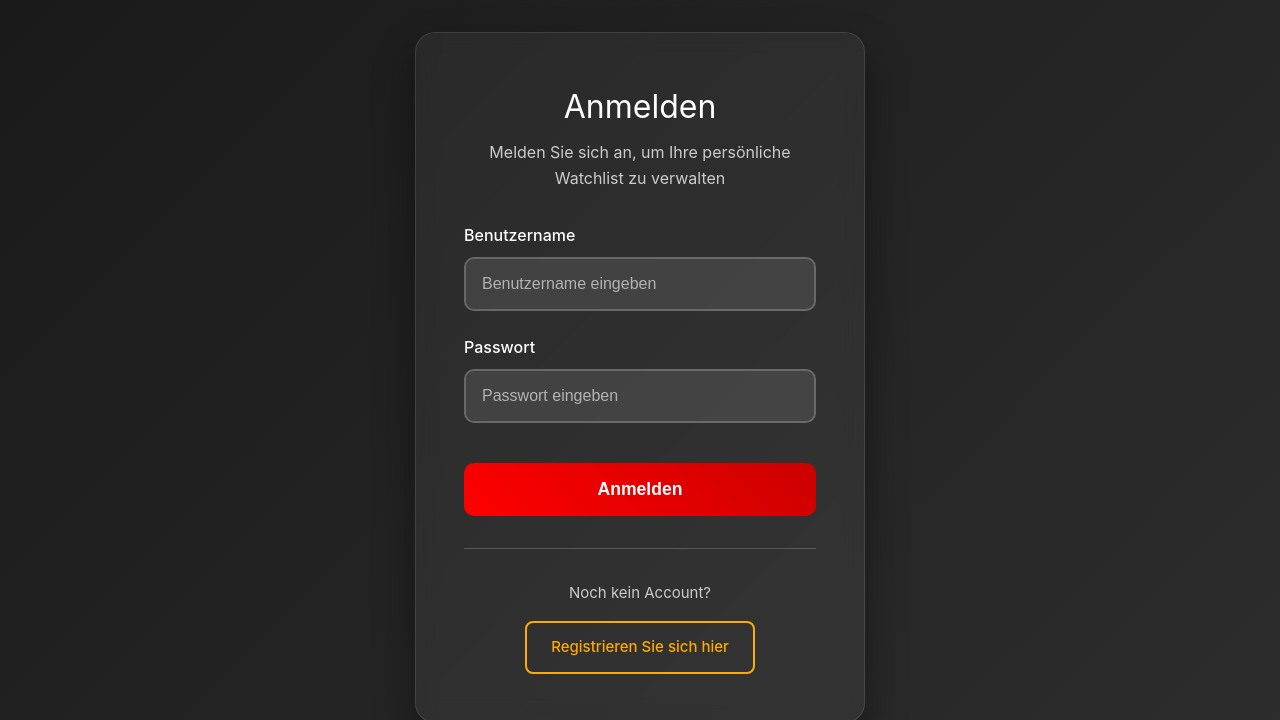
Test: LoginComponent › sollte Netzwerk-Fehler behandeln
The width and height of the screenshot is (1280, 720).
Type "testuser" into the field labelled "Benutzername".
click(640, 284); type("testuser")  # box [464,257,816,311]
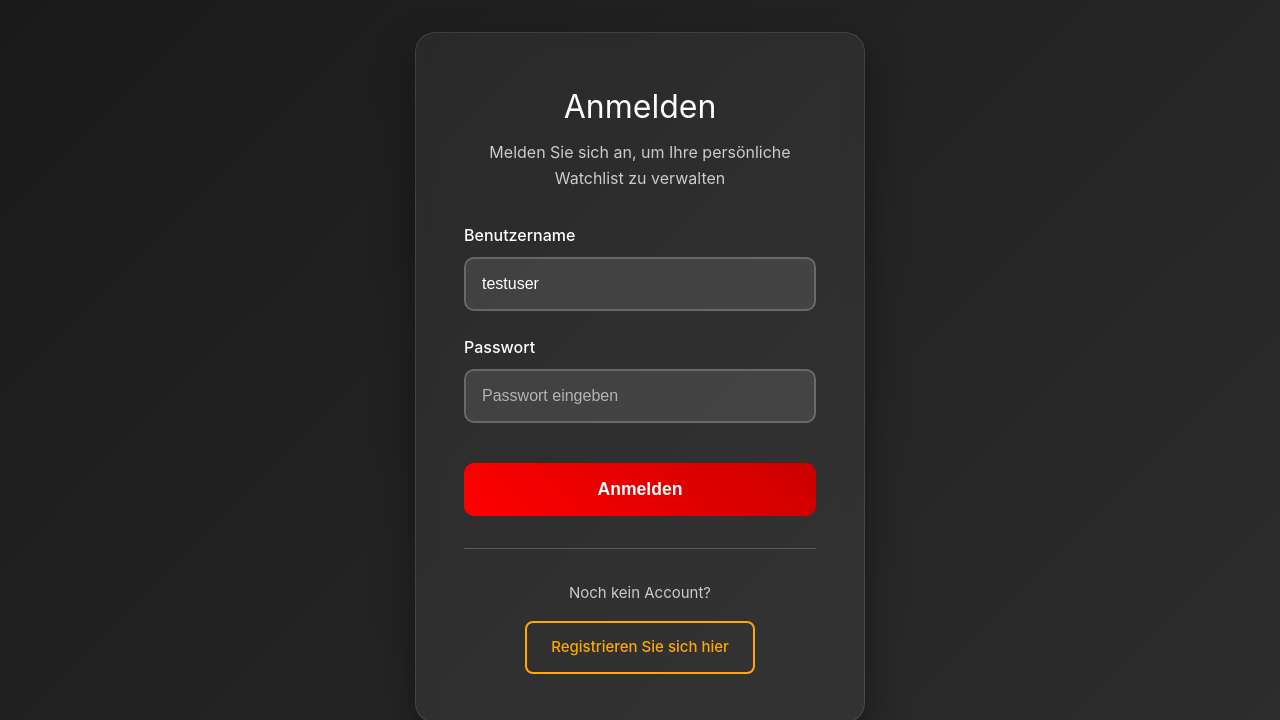
Type "testpassword" into the password field labelled "Passwort".
click(640, 396); type("testpassword")  # box [464,369,816,423]
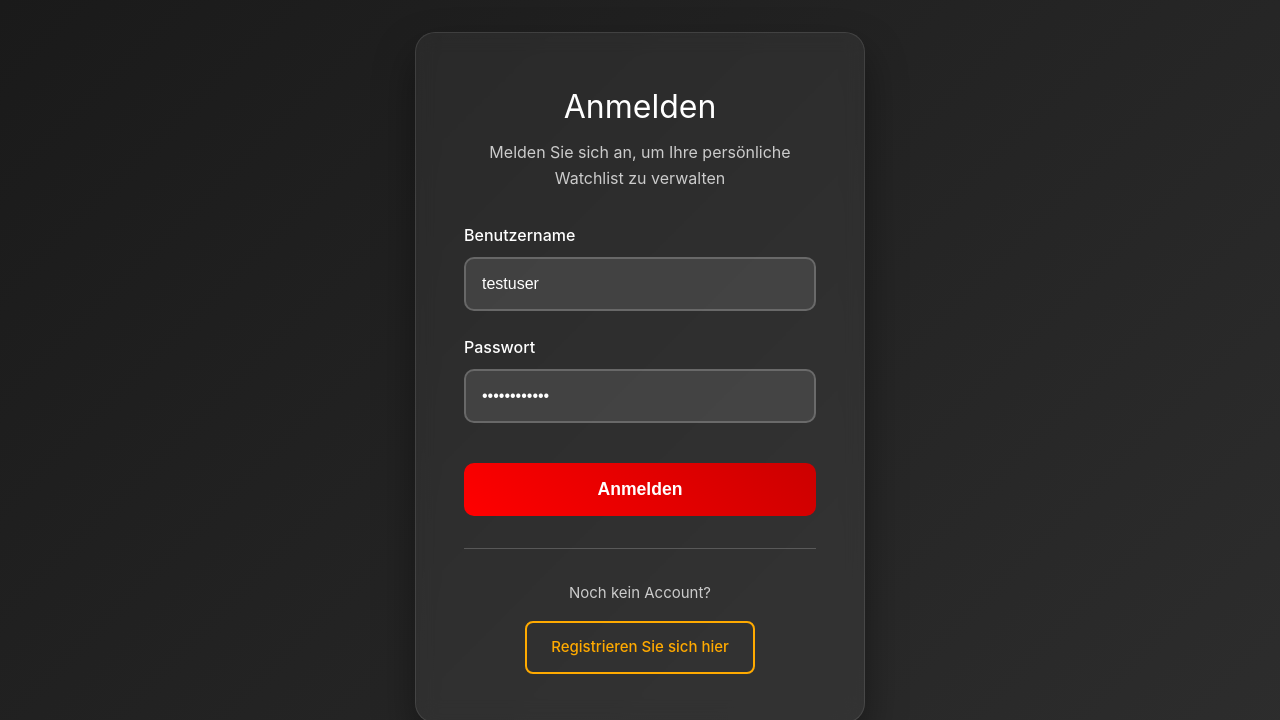
Submit the form, box [464,223,816,516]
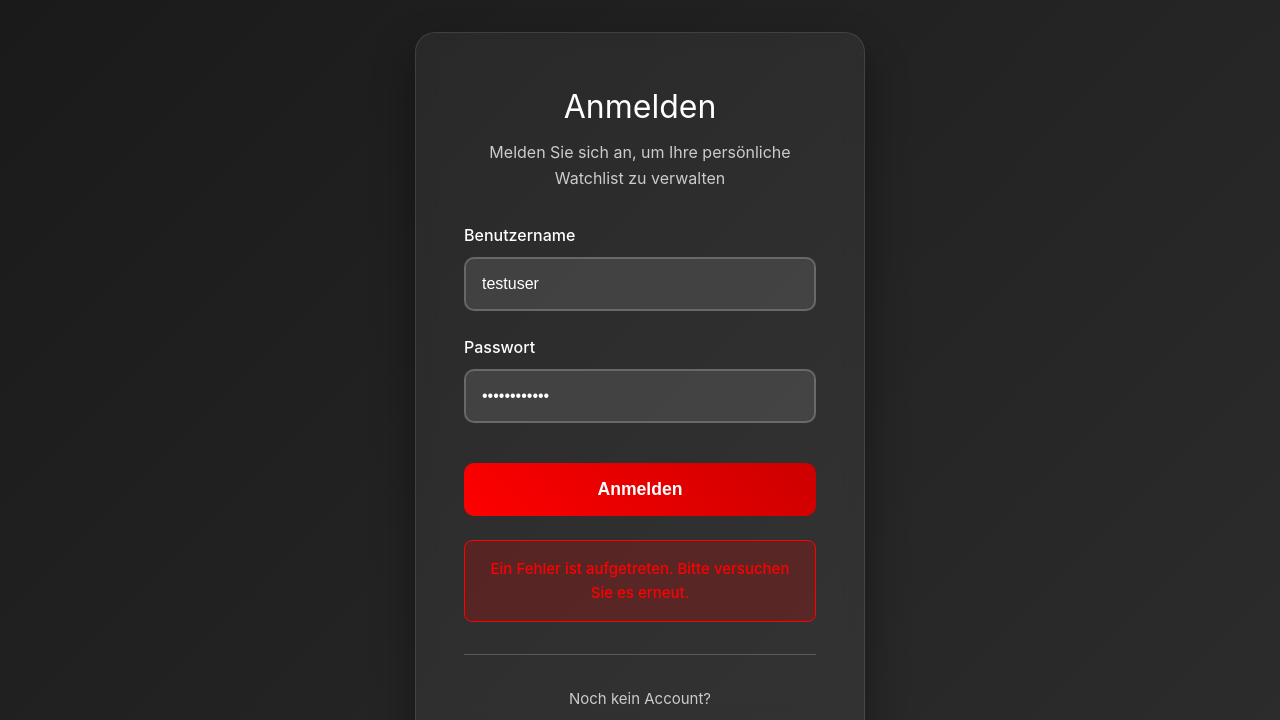
Result: the text with class "error-message" reads "Ein Fehler ist aufgetreten. Bitte versuchen Sie es erneut." at [490,559,789,602]
